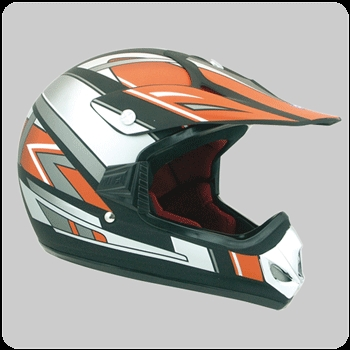helmet: (28, 59, 319, 296)
